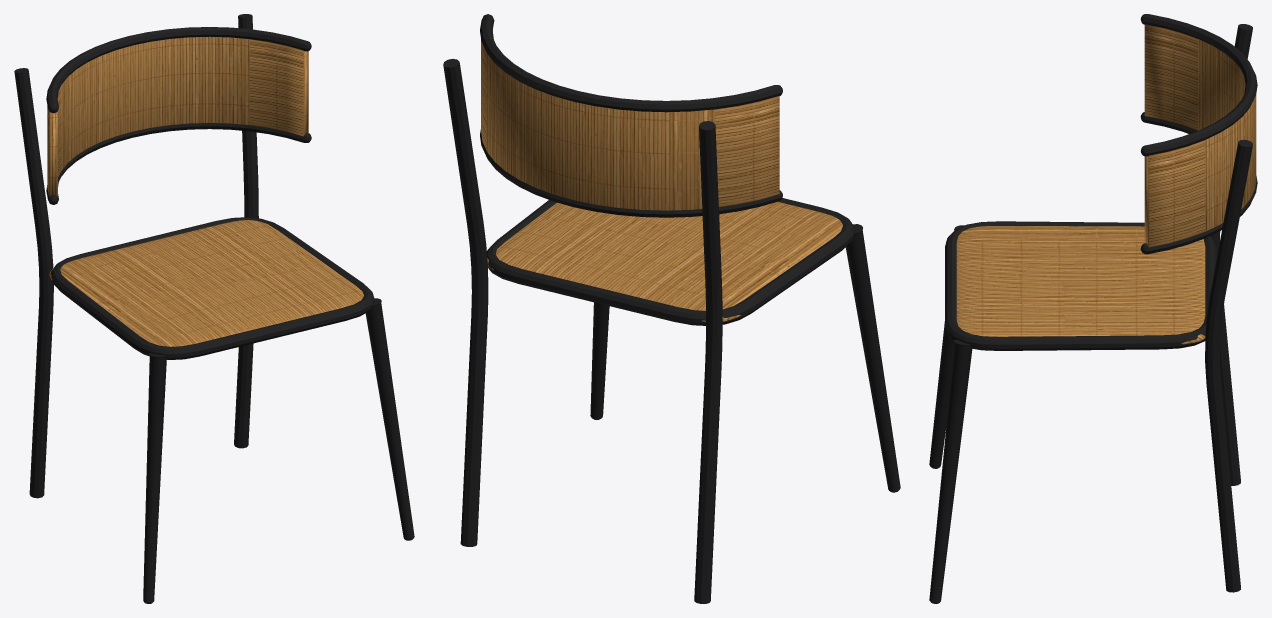
Rendered from silla_ratan_natural.glb.
3 views of the same model, side by side, from view 1: azimuth 30°, elevation 25°; view 2: azimuth 150°, elevation 25°; view 3: azimuth 270°, elevation 25° (orthographic). The views are drawn at different scales.
Visible parts, largest first — view 1: silla_ratan_natural; view 2: silla_ratan_natural; view 3: silla_ratan_natural.
Boxes of the visible parts, left/top/right/bottom form: silla_ratan_natural: left=14, top=14, right=414, bottom=603; silla_ratan_natural: left=443, top=14, right=900, bottom=603; silla_ratan_natural: left=929, top=14, right=1257, bottom=603.
Bounding box in the file's own units: 0.555 × 0.8411 × 0.5478.
2 materials, 1 textured.
